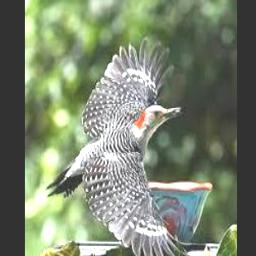Woodpecker: (46, 36, 199, 256)
